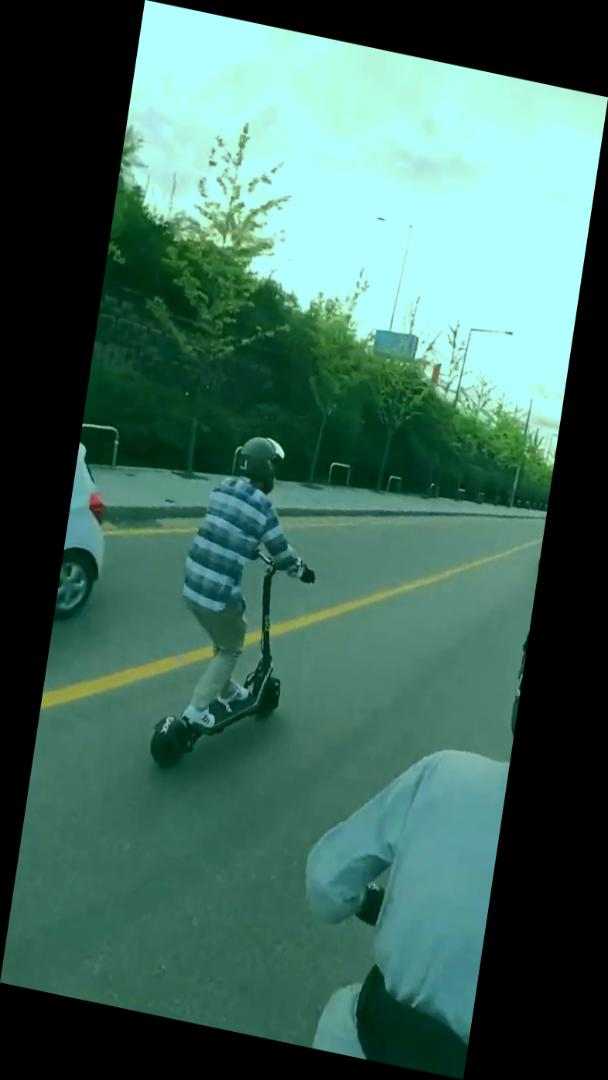helmet: (143, 417, 340, 801)
